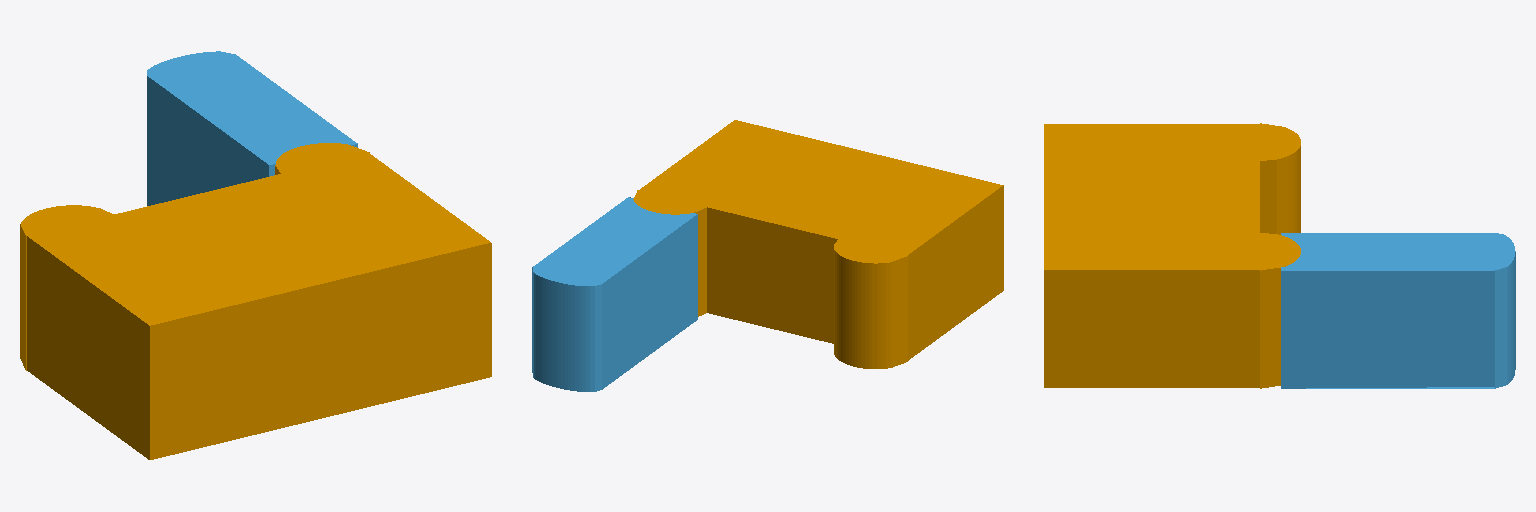
URDF robot description (3v3_40.35.25_30.30.40_1.1_63):
<?xml version="1.0" ?>
<robot name="3v3_40.35.25_30.30.40_1.1_63">

    <link name="palm">
        <visual>
            <origin rpy="0 0 0" xyz="0 0 0"/>
            <geometry>
                <mesh filename="obj_files/palm.obj" scale="1 1 1"/>
            </geometry>
        </visual>
        <collision>
            <geometry>
                <mesh filename="obj_files/palm_collision.obj" scale="1 1 1"/>
            </geometry>
        </collision>
    </link>

    <link name="finger0_segment0">
        <visual>
            <origin rpy="0 0 0" xyz="0 0 0"/>
            <geometry>
                <mesh filename="obj_files/finger0_segment0.obj" scale="1 1 1"/>
            </geometry>
        </visual>
        <collision>
            <geometry>
                <mesh filename="obj_files/finger0_segment0_collision.obj" scale="1 1 1"/>
            </geometry>
        </collision>
    </link>

    <joint name="finger0_segment0_joint" type="revolute">
        <parent link="palm"/>
        <child link="finger0_segment0"/>
        <origin rpy="0 0 0" xyz="0.03175 0 0.0"/>
        <axis xyz="0 0 1"/>
        <limit effort="1000.0" lower="-3.14" upper="3.14" velocity="0.5"/>
    </joint>

    <link name="finger0_segment1">
        <visual>
            <origin rpy="0 0 0" xyz="0 0 0"/>
            <geometry>
                <mesh filename="obj_files/finger0_segment1.obj" scale="1 1 1"/>
            </geometry>
        </visual>
        <collision>
            <geometry>
                <mesh filename="obj_files/finger0_segment1_collision.obj" scale="1 1 1"/>
            </geometry>
        </collision>
    </link>

    <joint name="finger0_segment1_joint" type="revolute">
        <parent link="finger0_segment0"/>
        <child link="finger0_segment1"/>
        <origin rpy="0 0 0" xyz="0 0.0576 0"/>
        <axis xyz="0 0 1"/>
        <limit effort="1000.0" lower="-3.14" upper="3.14" velocity="0.5"/>
    </joint>

    <link name="finger0_segment2">
        <visual>
            <origin rpy="0 0 0" xyz="0 0 0"/>
            <geometry>
                <mesh filename="obj_files/finger0_segment2.obj" scale="1 1 1"/>
            </geometry>
        </visual>
        <collision>
            <geometry>
                <mesh filename="obj_files/finger0_segment2_collision.obj" scale="1 1 1"/>
            </geometry>
        </collision>
    </link>

    <joint name="finger0_segment2_joint" type="revolute">
        <parent link="finger0_segment1"/>
        <child link="finger0_segment2"/>
        <origin rpy="0 0 0" xyz="0 0.0504 0"/>
        <axis xyz="0 0 1"/>
        <limit effort="1000.0" lower="-3.14" upper="3.14" velocity="0.5"/>
    </joint>

    <link name="finger1_segment0">
        <visual>
            <origin rpy="0 0 0" xyz="0 0 0"/>
            <geometry>
                <mesh filename="obj_files/finger1_segment0.obj" scale="1 1 1"/>
            </geometry>
        </visual>
        <collision>
            <geometry>
                <mesh filename="obj_files/finger1_segment0_collision.obj" scale="1 1 1"/>
            </geometry>
        </collision>
    </link>

    <joint name="finger1_segment0_joint" type="revolute">
        <parent link="palm"/>
        <child link="finger1_segment0"/>
        <origin rpy="0 0 0" xyz="-0.03175 0 3.888253587292846e-18"/>
        <axis xyz="0 0 1"/>
        <limit effort="1000.0" lower="-3.14" upper="3.14" velocity="0.5"/>
    </joint>

    <link name="finger1_segment1">
        <visual>
            <origin rpy="0 0 0" xyz="0 0 0"/>
            <geometry>
                <mesh filename="obj_files/finger1_segment1.obj" scale="1 1 1"/>
            </geometry>
        </visual>
        <collision>
            <geometry>
                <mesh filename="obj_files/finger1_segment1_collision.obj" scale="1 1 1"/>
            </geometry>
        </collision>
    </link>

    <joint name="finger1_segment1_joint" type="revolute">
        <parent link="finger1_segment0"/>
        <child link="finger1_segment1"/>
        <origin rpy="0 0 0" xyz="0 0.043199999999999995 0"/>
        <axis xyz="0 0 1"/>
        <limit effort="1000.0" lower="-3.14" upper="3.14" velocity="0.5"/>
    </joint>

    <link name="finger1_segment2">
        <visual>
            <origin rpy="0 0 0" xyz="0 0 0"/>
            <geometry>
                <mesh filename="obj_files/finger1_segment2.obj" scale="1 1 1"/>
            </geometry>
        </visual>
        <collision>
            <geometry>
                <mesh filename="obj_files/finger1_segment2_collision.obj" scale="1 1 1"/>
            </geometry>
        </collision>
    </link>

    <joint name="finger1_segment2_joint" type="revolute">
        <parent link="finger1_segment1"/>
        <child link="finger1_segment2"/>
        <origin rpy="0 0 0" xyz="0 0.043199999999999995 0"/>
        <axis xyz="0 0 1"/>
        <limit effort="1000.0" lower="-3.14" upper="3.14" velocity="0.5"/>
    </joint>

</robot>

--- Render facts (derived) ---
The picture shows the robot from 3 angles, left to right: view 1: azimuth 30°, elevation 25°; view 2: azimuth 150°, elevation 25°; view 3: azimuth 270°, elevation 25°; orthographic projection.
Model 3v3_40.35.25_30.30.40_1.1_63 with 7 links and 6 joints (6 revolute), rooted at palm, posed every joint at zero.
Links seen in each view (by area): view 1: palm, finger0_segment0; view 2: palm, finger0_segment0; view 3: palm, finger0_segment0.
Link boxes in pixels (left/top/right/bottom): palm: left=20, top=143, right=491, bottom=459; finger0_segment0: left=147, top=51, right=357, bottom=205; palm: left=633, top=120, right=1003, bottom=368; finger0_segment0: left=532, top=197, right=697, bottom=391; palm: left=1044, top=123, right=1300, bottom=388; finger0_segment0: left=1281, top=233, right=1515, bottom=388.
Bounding box of the posed robot: 0.0855 × 0.1156 × 0.032 m (x, y, z).
2 mesh visuals loaded from 7 distinct referenced files (2 OBJ); not drawn: 5 (reference not matched to a file when rendering).